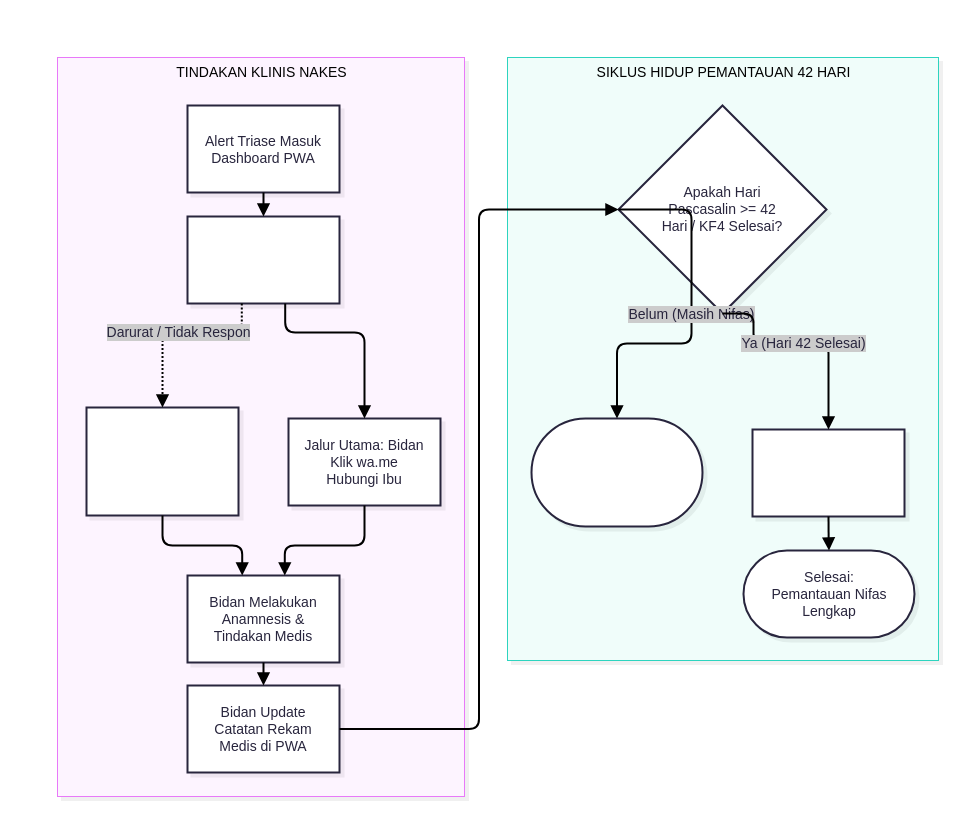
Image size: 960x818. Some labels were removed from this diagram. The centre of each missing label's shape, as x and y in pixels:
"Bidan Meninjau Gejala & Lokasi Pasien" goes at (265,261).
"Jalur Fail-Safe: Hubungi Suami jika Ibu Tidak Respon" goes at (164,463).
"Status Aktif: Menunggu Jadwal KF Berikutnya" goes at (618,474).
"Tandai Pasien: LULUS / SELESAI NIFAS" goes at (830,474).
